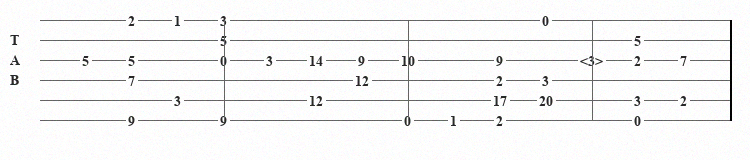0: (220, 53, 231, 67), (404, 113, 415, 127), (542, 13, 553, 27), (634, 113, 645, 127)
1: (174, 13, 185, 27), (450, 113, 461, 127)
10: (401, 53, 419, 67)
12: (309, 93, 327, 107), (355, 73, 373, 87)
14: (309, 53, 327, 67)
17: (493, 93, 511, 107)
2: (128, 13, 139, 27), (496, 113, 507, 127), (496, 73, 507, 87), (634, 53, 645, 67), (680, 93, 691, 107)
20: (539, 93, 557, 107)
3: (174, 93, 185, 107), (220, 13, 231, 27), (266, 53, 277, 67), (542, 73, 553, 87), (634, 93, 645, 107)
5: (82, 53, 93, 67), (128, 53, 139, 67), (220, 33, 231, 47), (634, 33, 645, 47)
7: (128, 73, 139, 87), (680, 53, 691, 67)
9: (128, 113, 139, 127), (220, 113, 231, 127), (358, 53, 369, 67), (496, 53, 507, 67)
harmonic: (580, 53, 607, 67)
